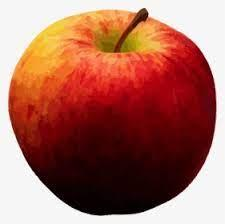Apple: (6, 7, 219, 219)
